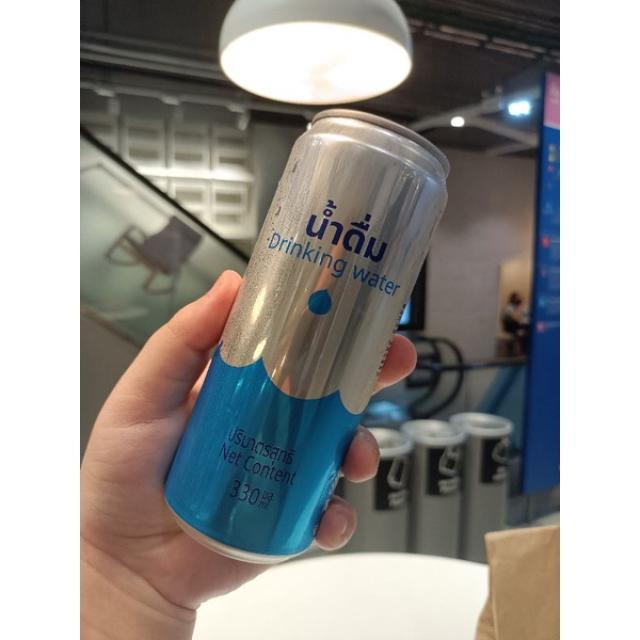can: (162, 108, 454, 571)
